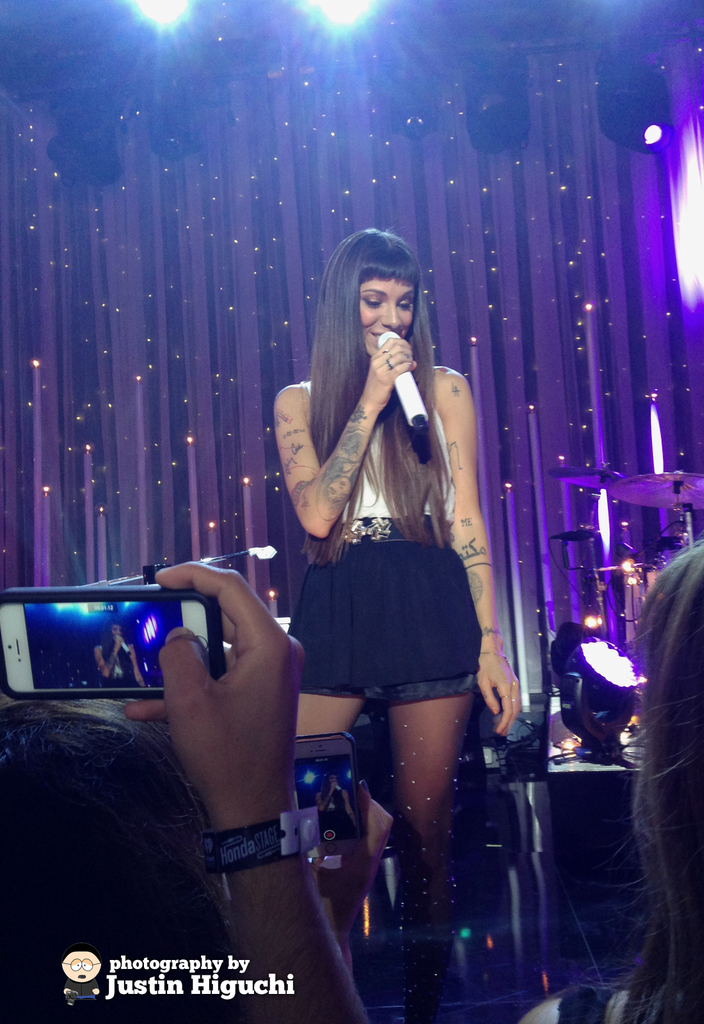Human_hand: (142, 570, 297, 866), (471, 654, 522, 740), (363, 337, 420, 409)
